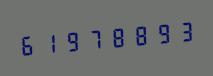eight: (105, 20, 126, 54), (127, 18, 148, 52)
nine: (61, 24, 82, 58), (149, 16, 170, 50)
one: (39, 25, 60, 59)
seven: (83, 22, 104, 56)
six: (17, 27, 38, 61)
three: (171, 14, 192, 48)
